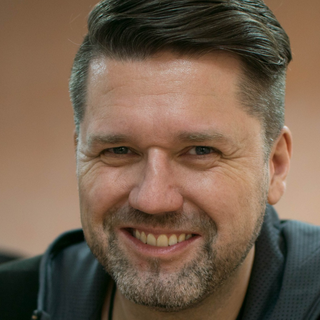eye: (177, 140, 227, 165), (94, 140, 143, 164)
